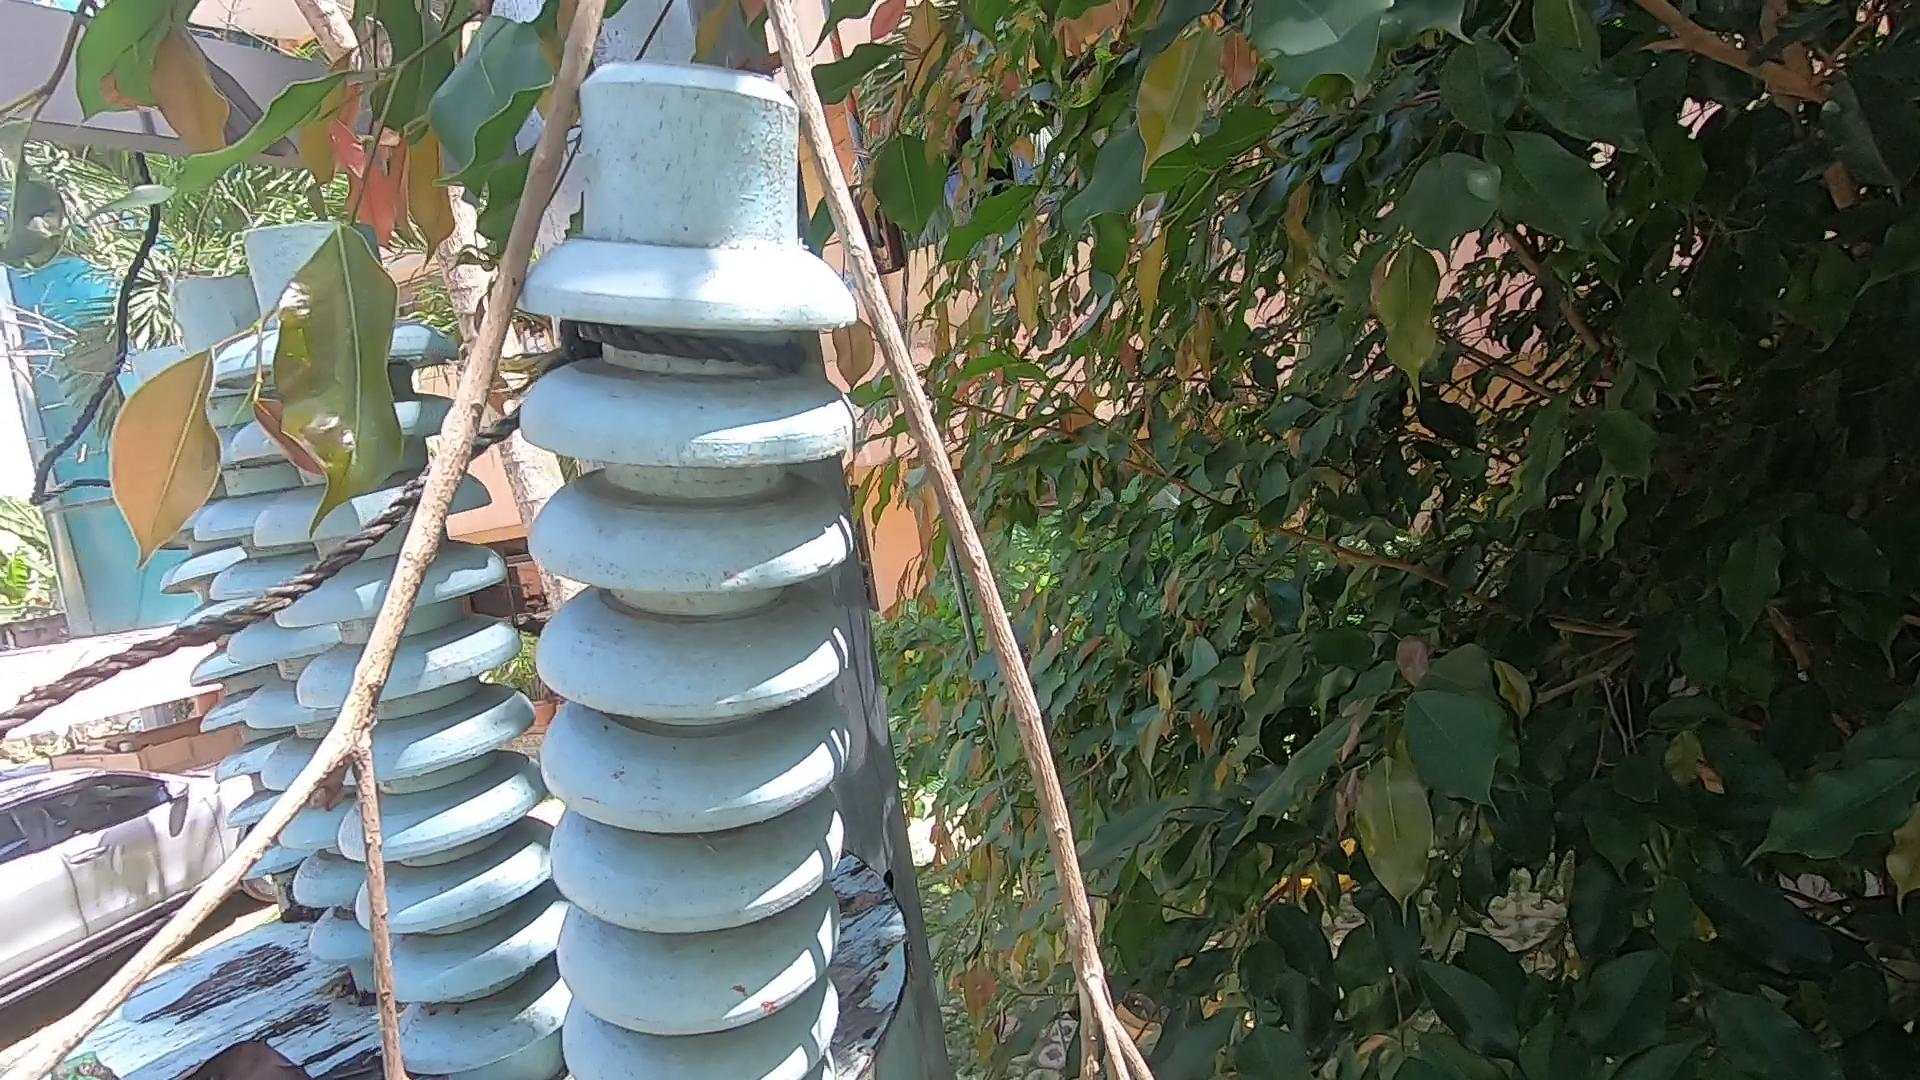leaf: (170, 1029, 343, 1080)
tree branch: (1, 1, 1188, 1080)
